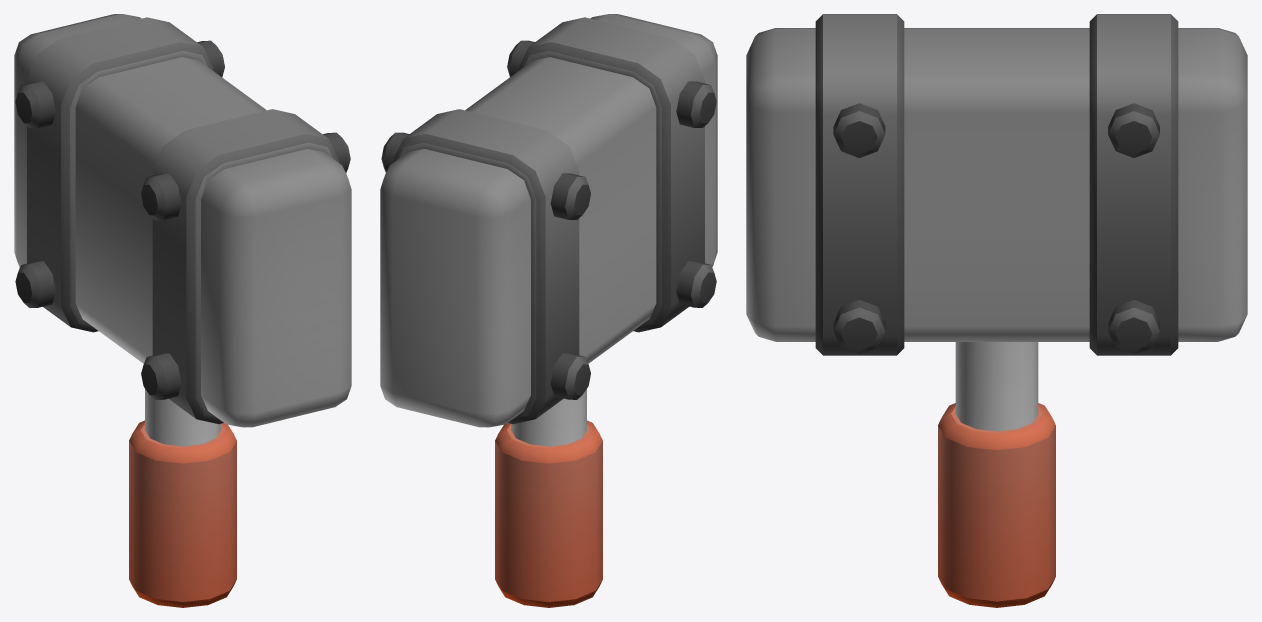
Rendered from Hammer_V1_00.fbx.
3 views of the same model, side by side, from view 1: azimuth 30°, elevation 25°; view 2: azimuth 150°, elevation 25°; view 3: azimuth 270°, elevation 25° (orthographic). The views are drawn at different scales.
Parts seen in each view (by area): view 1: Hammer_V1_00; view 2: Hammer_V1_00; view 3: Hammer_V1_00.
Boxes of the visible parts, left/top/right/bottom form: Hammer_V1_00: left=14, top=14, right=351, bottom=607; Hammer_V1_00: left=380, top=14, right=717, bottom=607; Hammer_V1_00: left=746, top=14, right=1247, bottom=607.
Bounding box in the file's own units: 16.37 × 40.83 × 33.73.
